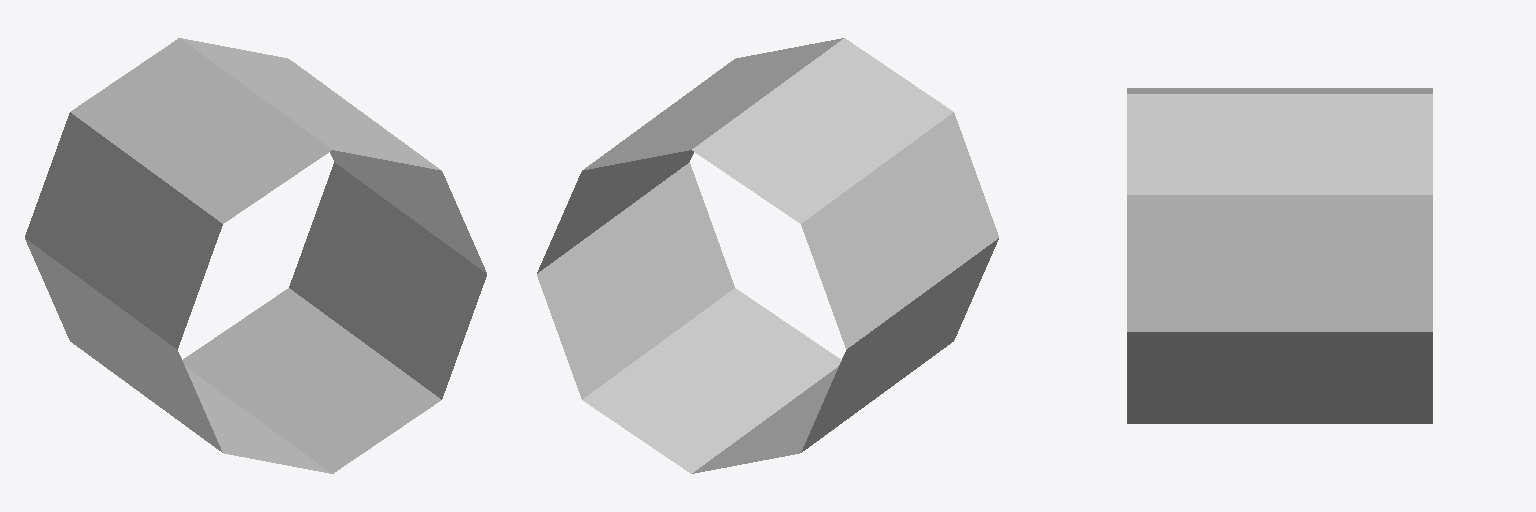
Rendered from original-15.obj.
3 views of the same model, side by side, from view 1: azimuth 30°, elevation 25°; view 2: azimuth 150°, elevation 25°; view 3: azimuth 270°, elevation 25° (orthographic).
Parts seen in each view (by area): view 1: #ID89; view 2: #ID89; view 3: #ID89.
Boxes of the visible parts, box(x1,y1,x2,y2) form: #ID89: box(25, 38, 486, 473); #ID89: box(537, 38, 998, 473); #ID89: box(1127, 88, 1432, 423).
Bounding box in the file's own units: 0.0496 × 0.0496 × 0.0425.